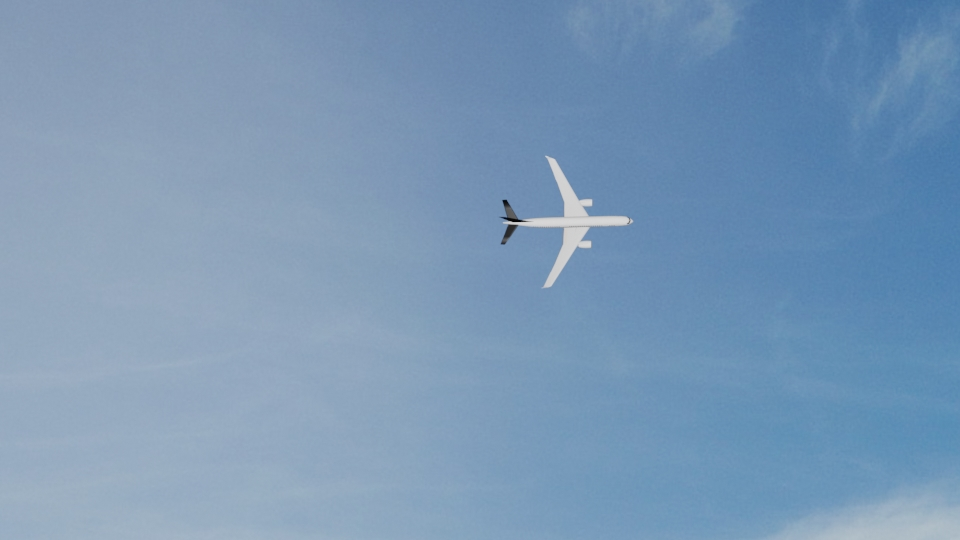plane: (500, 153, 635, 291)
